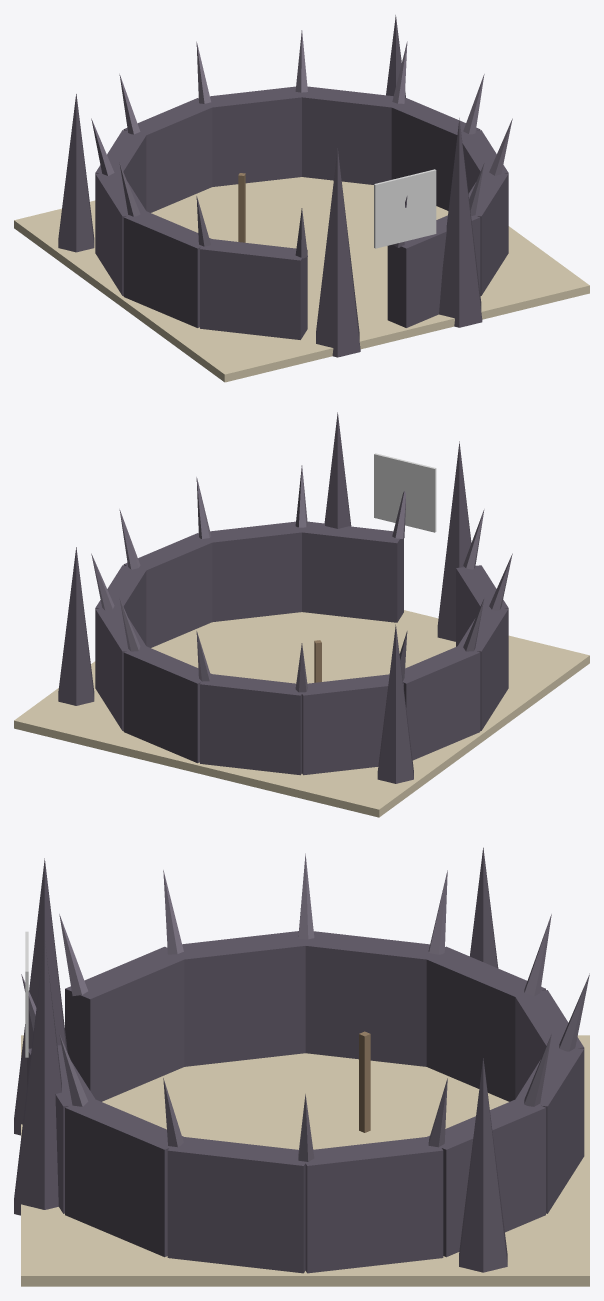
3 views of the same model, one above another, from view 1: azimuth 30°, elevation 25°; view 2: azimuth 150°, elevation 25°; view 3: azimuth 270°, elevation 25° (orthographic). The views are drawn at different scales.
Parts seen in each view (by area): view 1: body; view 2: body; view 3: body.
Boxes of the visible parts, x1=… form: body: x1=14, y1=15, x2=589, y2=382; body: x1=14, y1=412, x2=589, y2=817; body: x1=14, y1=847, x2=589, y2=1286.
Size of the model in its own units: 9.6 by 5 by 9.72.
